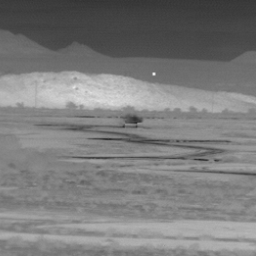Target: (150, 70, 158, 77)
